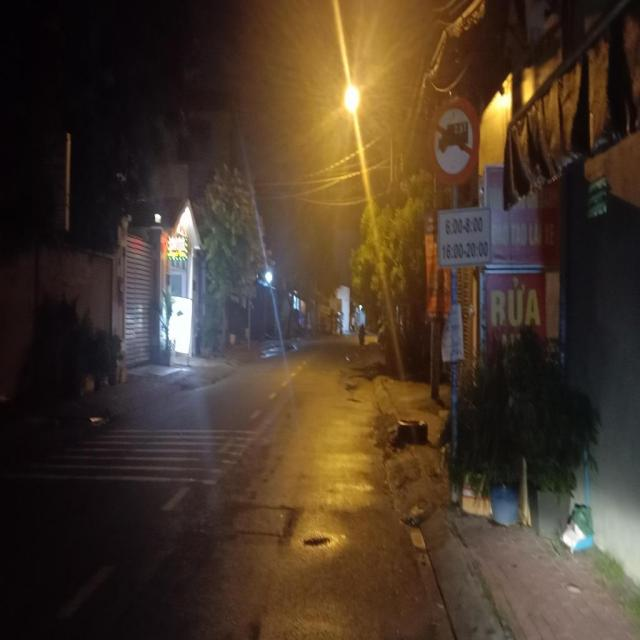cam_o_to_tai_trong_luong_qua_2-5t: (427, 96, 480, 186)
khac: (437, 209, 491, 267)
